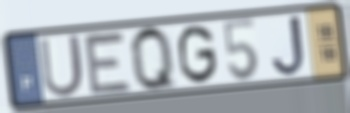5: (221, 15, 261, 84)
E: (80, 30, 135, 97)
G: (177, 23, 220, 87)
J: (270, 13, 308, 79)
Q: (128, 23, 181, 94)
U: (37, 31, 86, 100)
